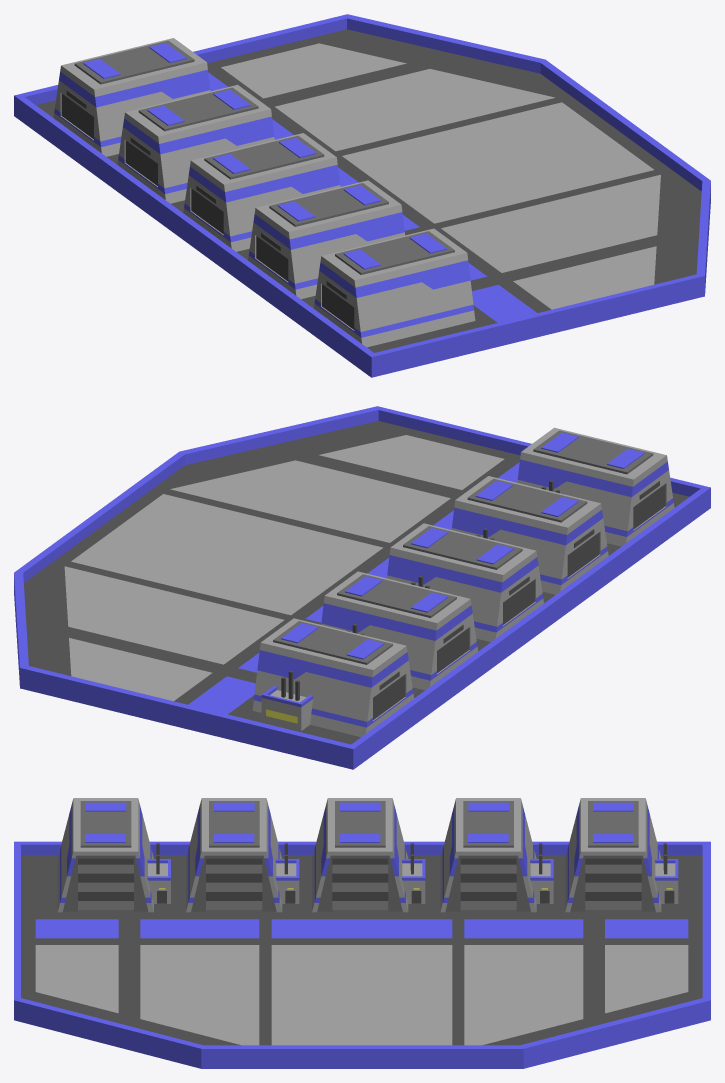
File: Blue Hanger Platform Closed.fbx
3 views of the same model, one above another, from view 1: azimuth 30°, elevation 25°; view 2: azimuth 150°, elevation 25°; view 3: azimuth 270°, elevation 25° (orthographic). The views are drawn at different scales.
Parts seen in each view (by area): view 1: Group1, Group5, Group3, Group6, Group4, Group2; view 2: Group1, Group2, Group5, Group4, Group6, Group3; view 3: Group1, Group2, Group3, Group4, Group5, Group6.
Boxes of the visible parts, <box> form: Group1: <box>14,14,710,377</box>; Group5: <box>314,228,475,347</box>; Group3: <box>117,84,274,203</box>; Group6: <box>248,180,405,299</box>; Group4: <box>183,133,340,251</box>; Group2: <box>53,38,210,156</box>; Group1: <box>14,406,710,769</box>; Group2: <box>252,618,414,736</box>; Group5: <box>517,427,674,546</box>; Group4: <box>387,523,543,641</box>; Group6: <box>451,476,608,594</box>; Group3: <box>321,571,478,690</box>; Group1: <box>14,841,710,1068</box>; Group2: <box>565,798,678,912</box>; Group3: <box>440,798,553,912</box>; Group4: <box>312,798,425,912</box>; Group5: <box>57,798,170,912</box>; Group6: <box>186,798,299,912</box>.
Bounding box in the file's own units: 205 × 33.83 × 292.
